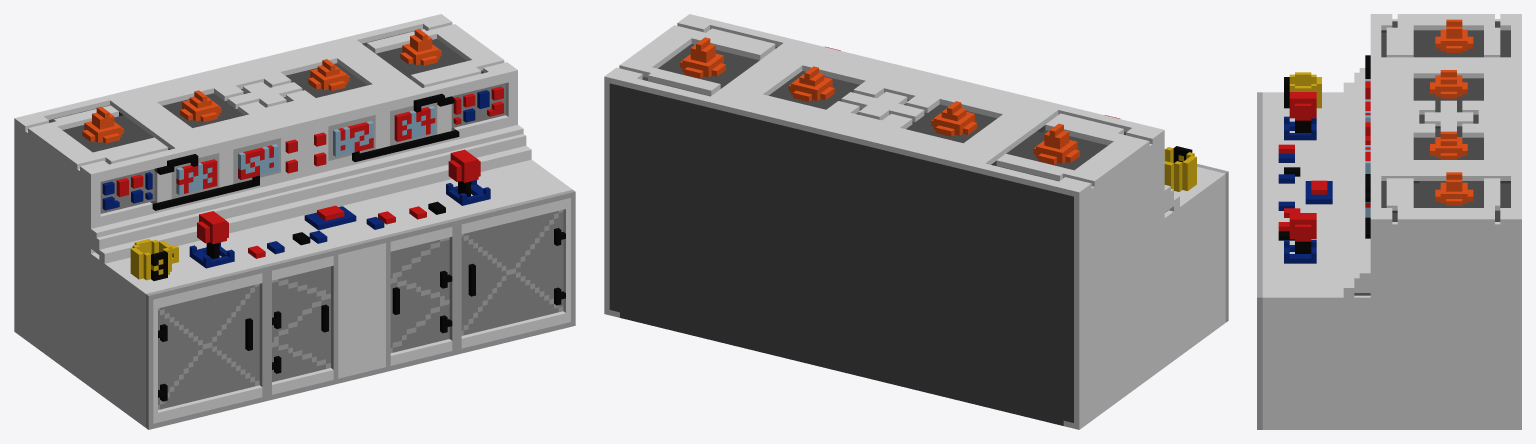
Rendered from centro de mando.fbx.
3 views of the same model, side by side, from view 1: azimuth 30°, elevation 25°; view 2: azimuth 150°, elevation 25°; view 3: azimuth 270°, elevation 25° (orthographic). The views are drawn at different scales.
Visible parts, largest first — view 1: Centro de mando-0; view 2: Centro de mando-0; view 3: Centro de mando-0.
Boxes of the visible parts, x1=… form: Centro de mando-0: x1=14, y1=14, x2=575, y2=429; Centro de mando-0: x1=604, y1=14, x2=1228, y2=429; Centro de mando-0: x1=1257, y1=14, x2=1521, y2=429.
Size of the model in its own units: 900 by 470 by 490.
